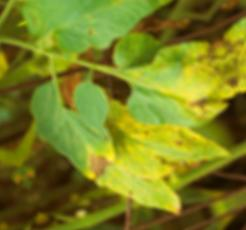Tomato Septoria leaf spot: (83, 65, 237, 203), (66, 109, 200, 230), (117, 30, 246, 151)
